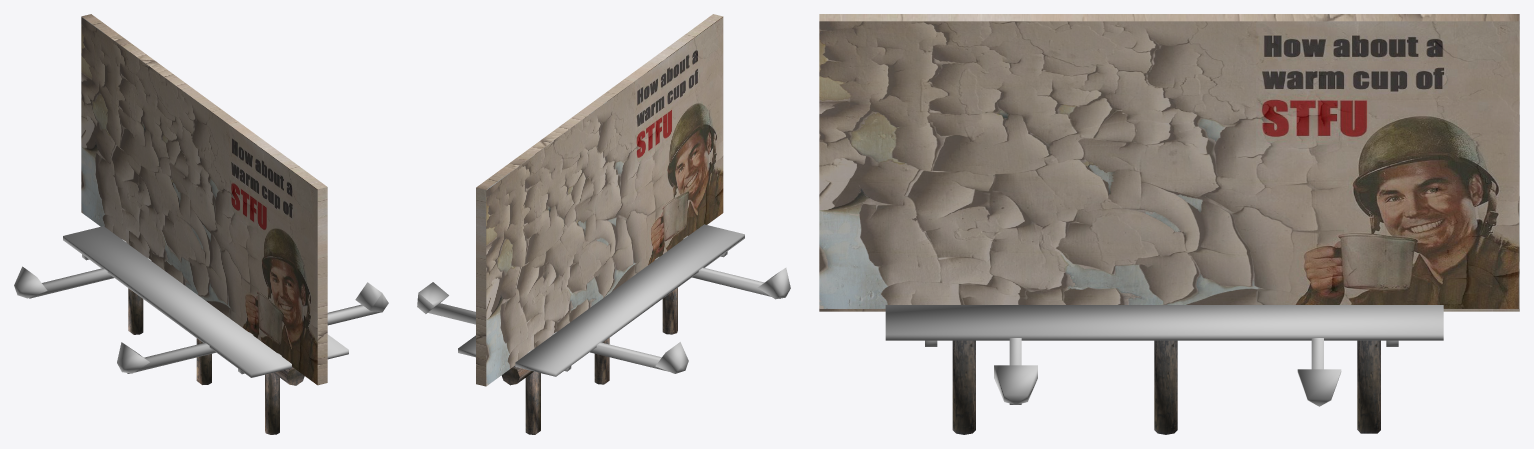
File: billboard4_500.fbx
The picture shows the model from 3 angles, left to right: view 1: azimuth 30°, elevation 25°; view 2: azimuth 150°, elevation 25°; view 3: azimuth 270°, elevation 25°; orthographic projection. The views are drawn at different scales.
Parts seen in each view (by area): view 1: board0, boards0, lightframes0, poststumps0; view 2: board0, boards0, lightframes0, poststumps0; view 3: board0, boards0, poststumps0, lightframes0.
Part boxes in pixels (x1=…): board0: x1=81, y1=14, x2=327, y2=385; boards0: x1=63, y1=226, x2=348, y2=377; lightframes0: x1=14, y1=239, x2=388, y2=374; poststumps0: x1=128, y1=288, x2=279, y2=434; board0: x1=476, y1=14, x2=723, y2=386; boards0: x1=458, y1=224, x2=744, y2=376; lightframes0: x1=417, y1=235, x2=790, y2=373; poststumps0: x1=525, y1=288, x2=677, y2=434; board0: x1=819, y1=14, x2=1519, y2=311; boards0: x1=885, y1=305, x2=1443, y2=340; poststumps0: x1=952, y1=340, x2=1380, y2=434; lightframes0: x1=925, y1=338, x2=1398, y2=406.
Size of the model in its own units: 10.32 by 10.39 by 15.95.
